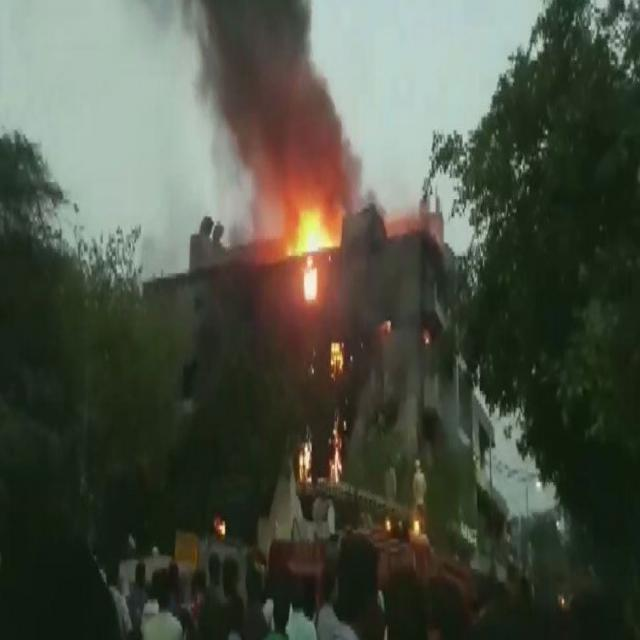fire: (279, 199, 343, 309), (295, 425, 316, 489), (326, 417, 345, 485), (326, 331, 345, 384), (212, 509, 228, 538), (380, 310, 392, 339), (421, 326, 432, 347)
